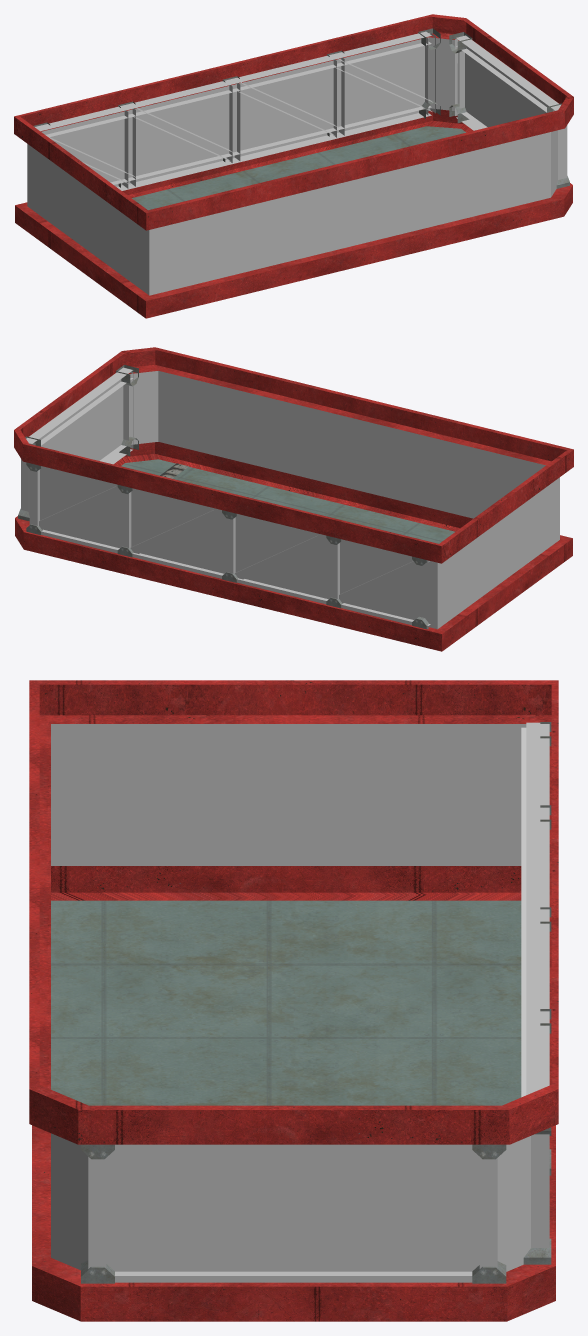
The model's file is Ob_Building1Base_RC.fbx.
The picture shows the model from 3 angles, top to bottom: view 1: azimuth 30°, elevation 25°; view 2: azimuth 150°, elevation 25°; view 3: azimuth 270°, elevation 25°; orthographic projection. The views are drawn at different scales.
Parts seen in each view (by area): view 1: Ob_Building1Base_RC; view 2: Ob_Building1Base_RC; view 3: Ob_Building1Base_RC.
Boxes of the visible parts, x1,y1,x2,y2 form: Ob_Building1Base_RC: (14, 14, 573, 318); Ob_Building1Base_RC: (14, 347, 573, 651); Ob_Building1Base_RC: (29, 680, 558, 1321).
Bounding box in the file's own units: 3161 × 727 × 1646.
